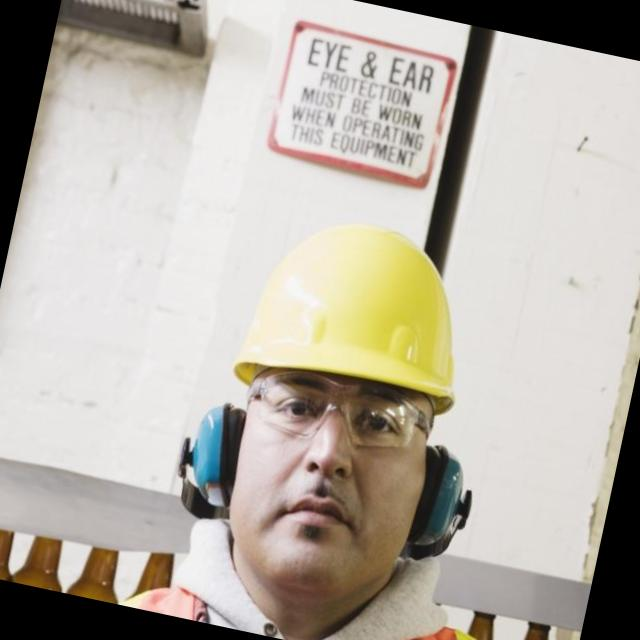Helmet: (223, 205, 488, 412)
